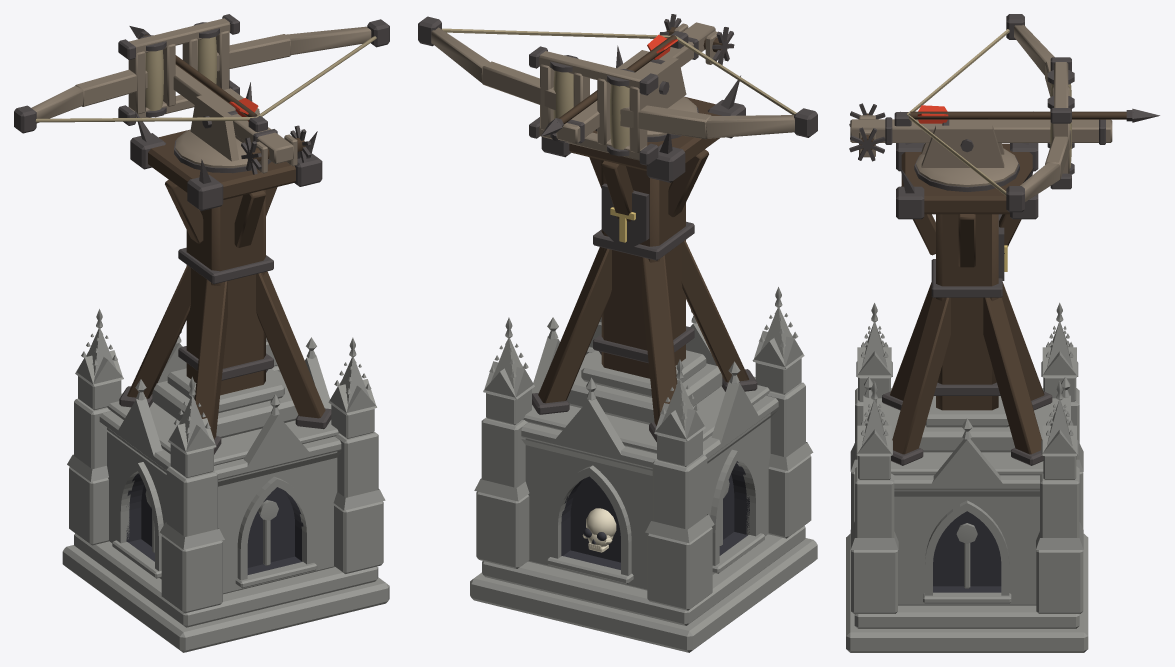
Rendered from tower_arrow_1.glb.
3 views of the same model, side by side, from view 1: azimuth 30°, elevation 25°; view 2: azimuth 150°, elevation 25°; view 3: azimuth 270°, elevation 25° (orthographic). The views are drawn at different scales.
Visible parts, largest first — view 1: tower, turret; view 2: tower, turret; view 3: tower, turret.
Part boxes in pixels (x1,y1,x2,y2): tower: (62,82,389,652); turret: (14,14,389,174); tower: (470,45,817,652); turret: (418,14,817,165); tower: (846,111,1088,652); turret: (849,14,1159,212).
Size of the model in its own units: 2.99 by 4.02 by 2.21.
